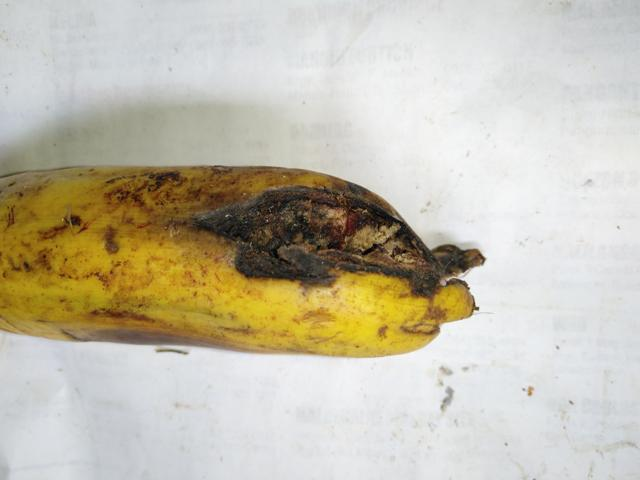ripe: (0, 145, 225, 348)
rotten: (155, 163, 474, 329), (57, 315, 248, 388)
